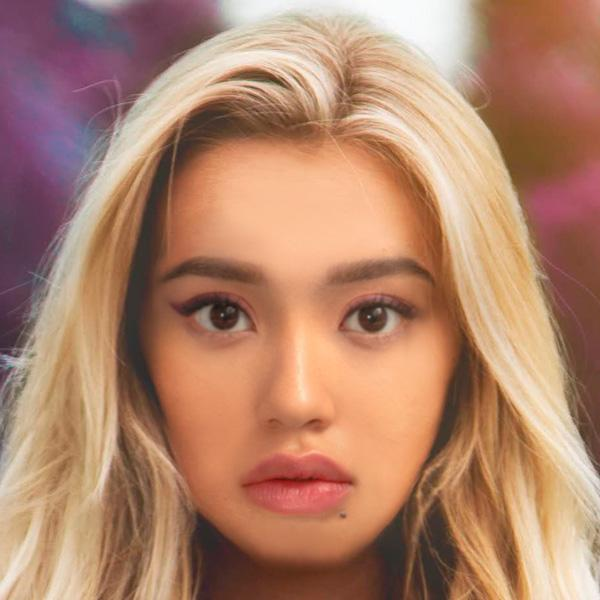Eyes: (325, 288, 426, 350), (168, 285, 266, 346)
